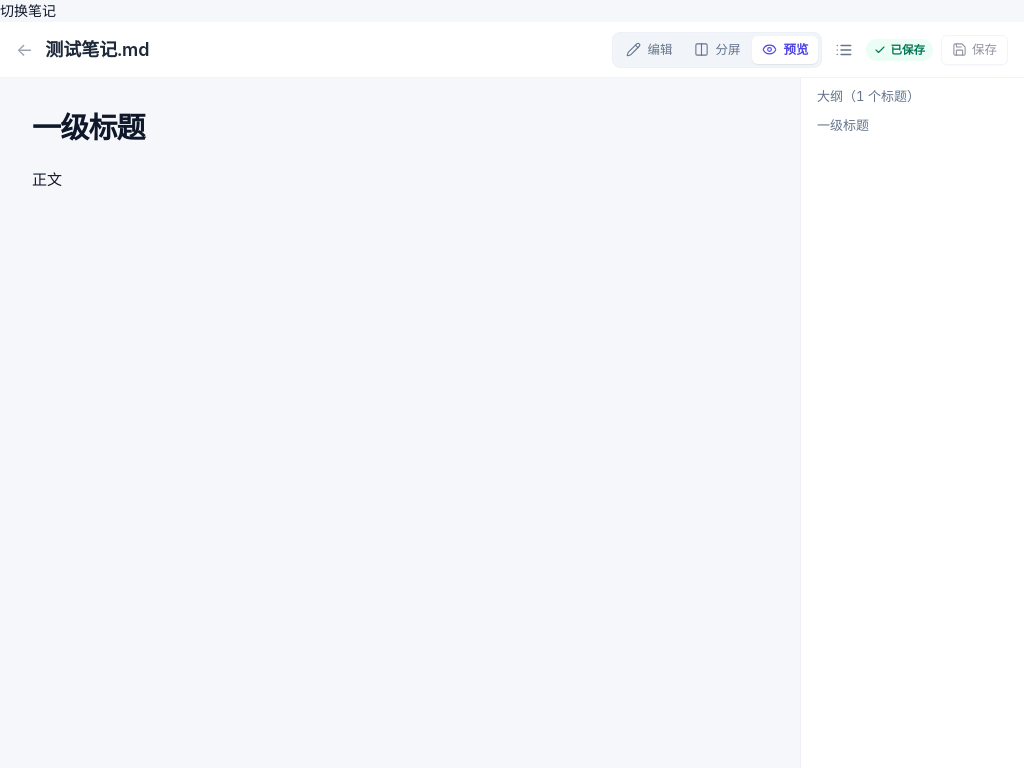
Test: 跨笔记切换：手动切换按 filename 记账（Phase 5 审查 M-4） › ① 同一篇笔记内手动切换后，内容变化不再改变模式（AC-11）
This screenshot has width=1024, height=768.
Expected: the text "大纲（1 个标题）" is shown, [817, 88, 920, 104]
Click the tab "编辑": click(649, 50) [616, 36, 682, 64]
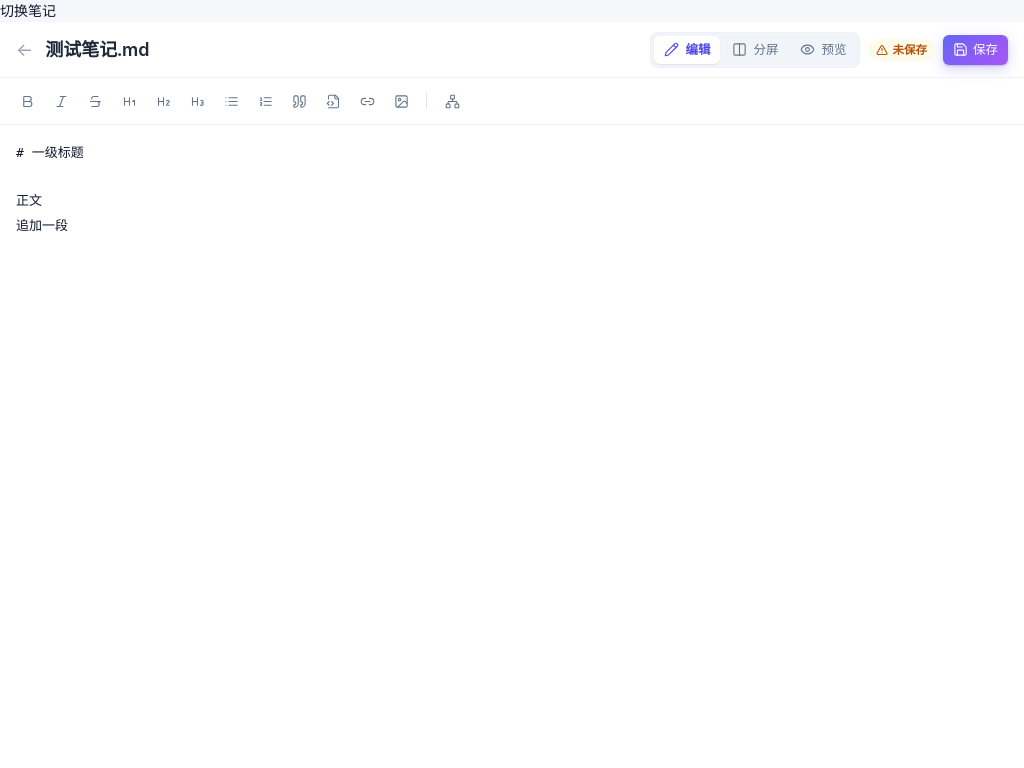
Expected: the element with class "markdown-body" is gone
// 反向：手动切回 preview 后继续改内容，仍是 preview
Click the tab "预览": click(824, 50) [790, 36, 856, 64]
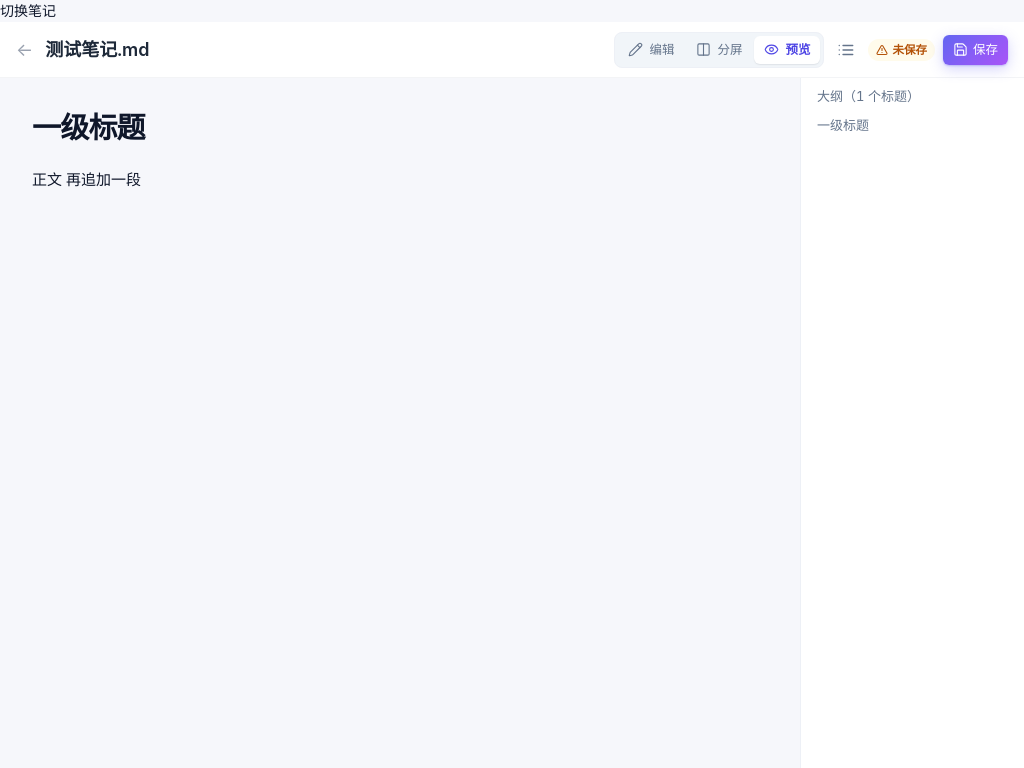
Expected: the element with class "markdown-body" is shown, [32, 110, 145, 189]
